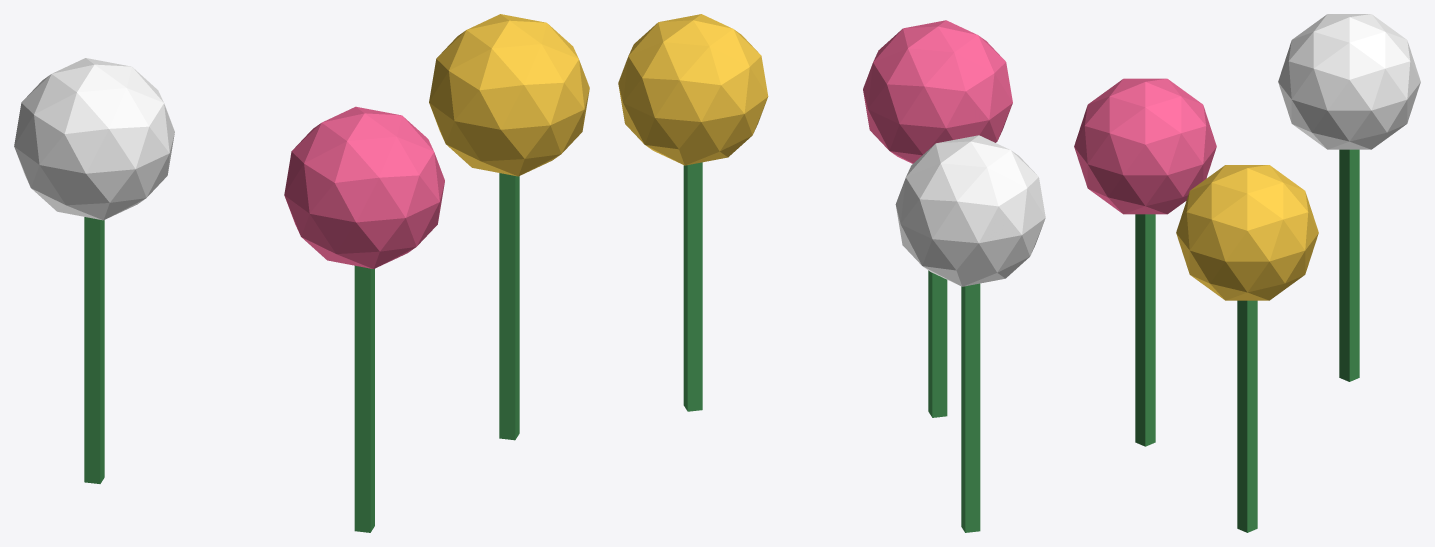
The model's file is Bike_Flowers.fbx.
3 views of the same model, side by side, from view 1: azimuth 30°, elevation 25°; view 2: azimuth 150°, elevation 25°; view 3: azimuth 270°, elevation 25° (orthographic). The views are drawn at different scales.
Visible parts, largest first — view 1: Flowers; view 2: Flowers; view 3: Flowers.
Boxes of the visible parts, box(x1,y1,x2,y2) form: Flowers: box(14, 14, 589, 532); Flowers: box(618, 14, 1045, 532); Flowers: box(1074, 14, 1420, 532).
Size of the model in its own units: 0.4831 by 0.39 by 0.34.
